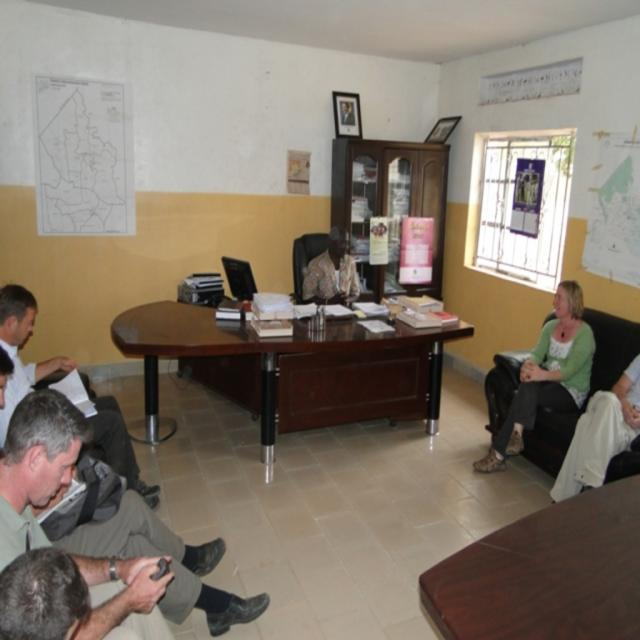desk: (115, 285, 461, 477)
laptop: (220, 255, 290, 310)
person: (1, 386, 270, 638), (1, 284, 158, 502), (471, 279, 595, 475), (549, 351, 640, 501), (301, 227, 361, 305)
